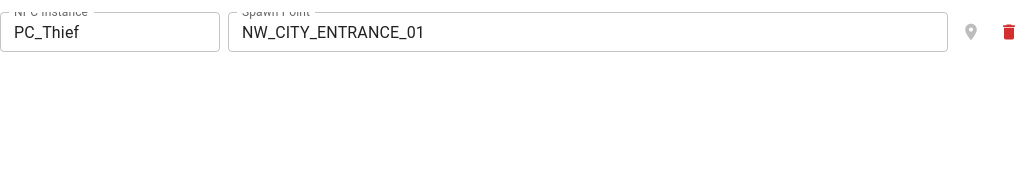
Test case: the spawn point jumps to the world › is disabled with its reason when no world is open
Hover over the element named "No world is open" at (971, 32), box [956,17,986,47]
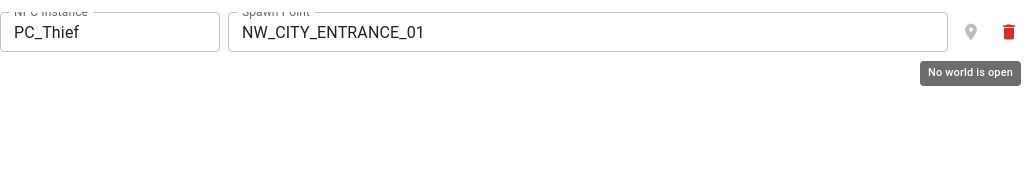
Expected: the text "No world is open" is shown, [920,61,1021,86]
